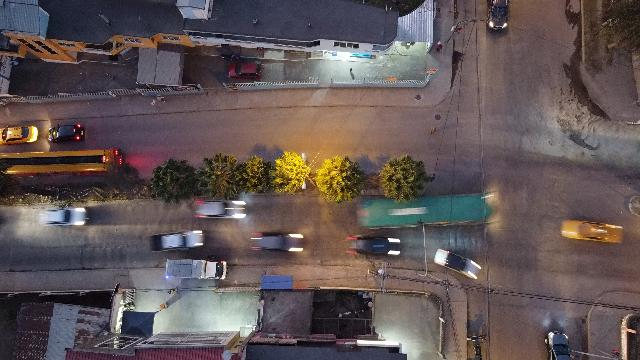Vehiculo: (561, 221, 623, 244), (165, 259, 228, 279), (150, 230, 204, 250), (251, 232, 304, 251), (39, 206, 87, 226), (194, 200, 246, 218), (0, 126, 38, 144), (546, 331, 570, 359), (486, 0, 508, 30), (48, 124, 84, 142), (228, 62, 264, 78)
